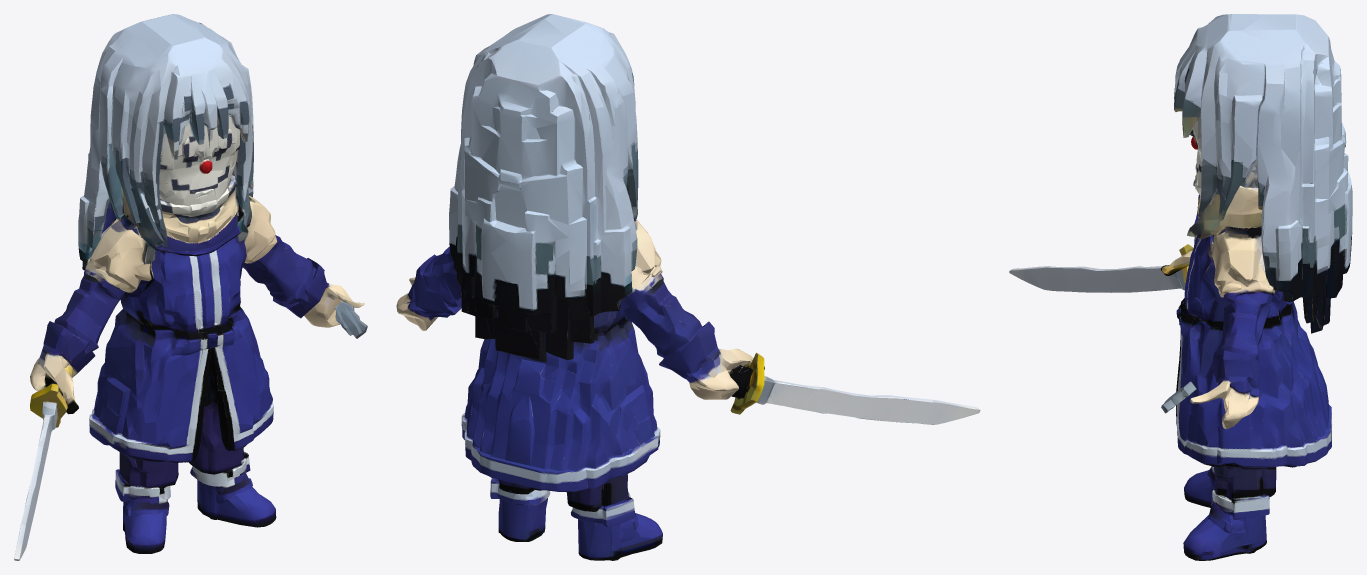
The model's file is rainoray-sprint.glb.
3 renders of one model, left to right at view 1: azimuth 30°, elevation 25°; view 2: azimuth 150°, elevation 25°; view 3: azimuth 270°, elevation 25°, orthographic. The views are drawn at different scales.
Bounding box in the file's own units: 1.8 × 1.9 × 1.17.
1 material, 1 textured.
